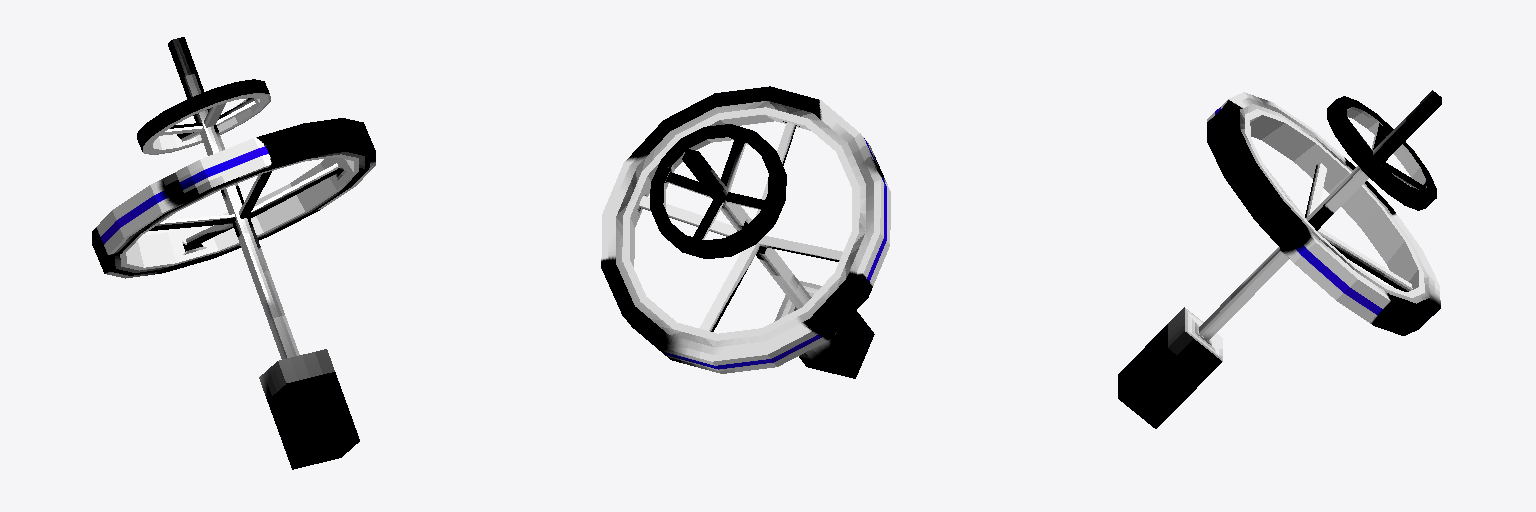
3 views of the same model, side by side, from view 1: azimuth 30°, elevation 25°; view 2: azimuth 150°, elevation 25°; view 3: azimuth 270°, elevation 25° (orthographic).
Visible parts, largest first — view 1: Cylinder.001; view 2: Cylinder.001; view 3: Cylinder.001.
Part boxes in pixels (left/top/right/bottom): Cylinder.001: left=92, top=37, right=375, bottom=469; Cylinder.001: left=601, top=86, right=890, bottom=378; Cylinder.001: left=1118, top=90, right=1441, bottom=428.
Size of the model in its own units: 11.39 by 13.79 by 12.5.
Materials: 1 (1 with a texture image).